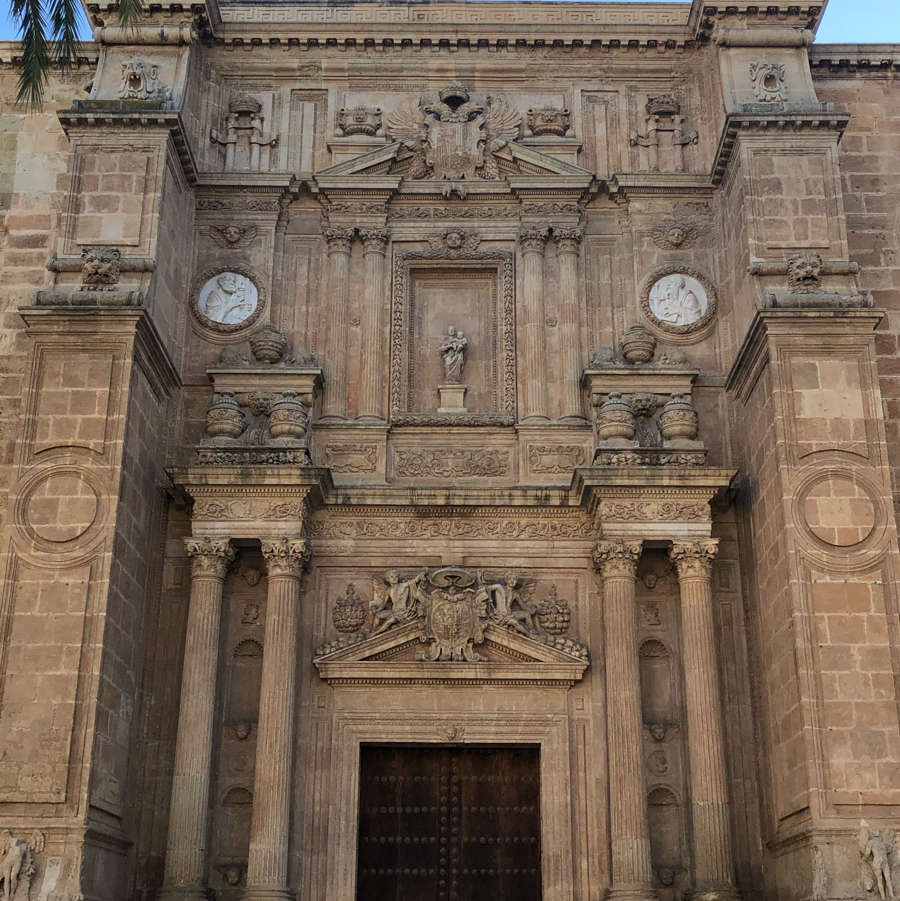fronton: (310, 604, 589, 689)
fronton-partido: (311, 134, 596, 190)
vano-adintelado: (335, 714, 560, 901), (384, 243, 512, 408)
